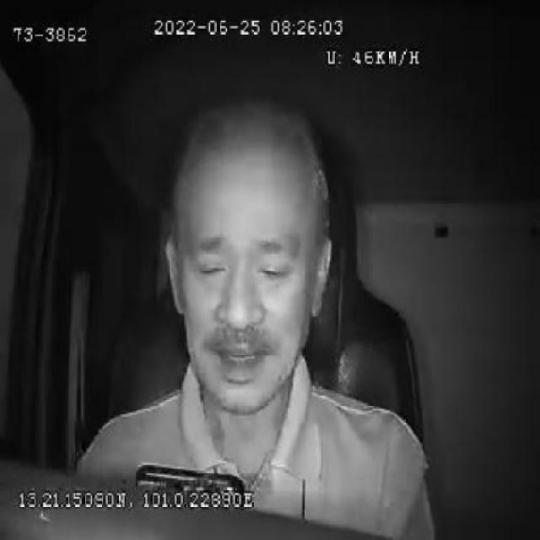phone: (127, 464, 251, 492)
